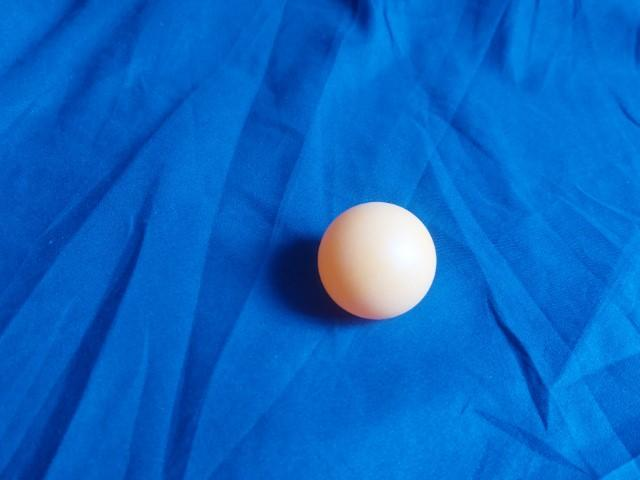oball: (310, 197, 446, 324)
